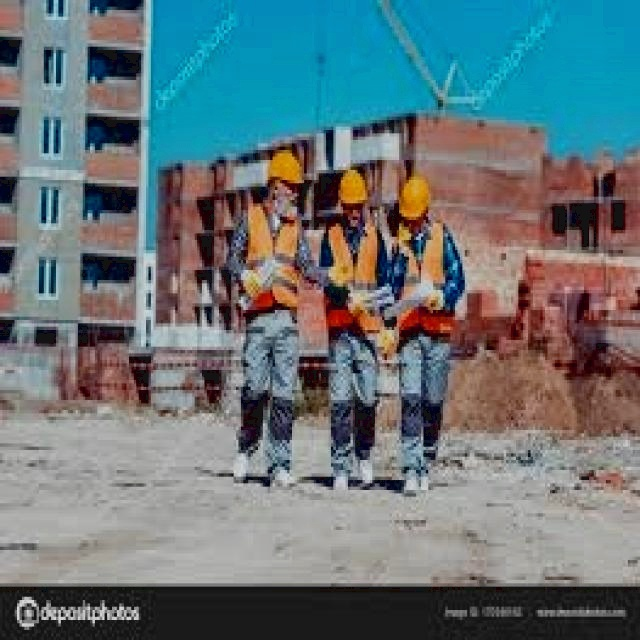Con_Chaleco: (395, 224, 461, 336), (324, 219, 383, 327), (242, 203, 302, 305)
